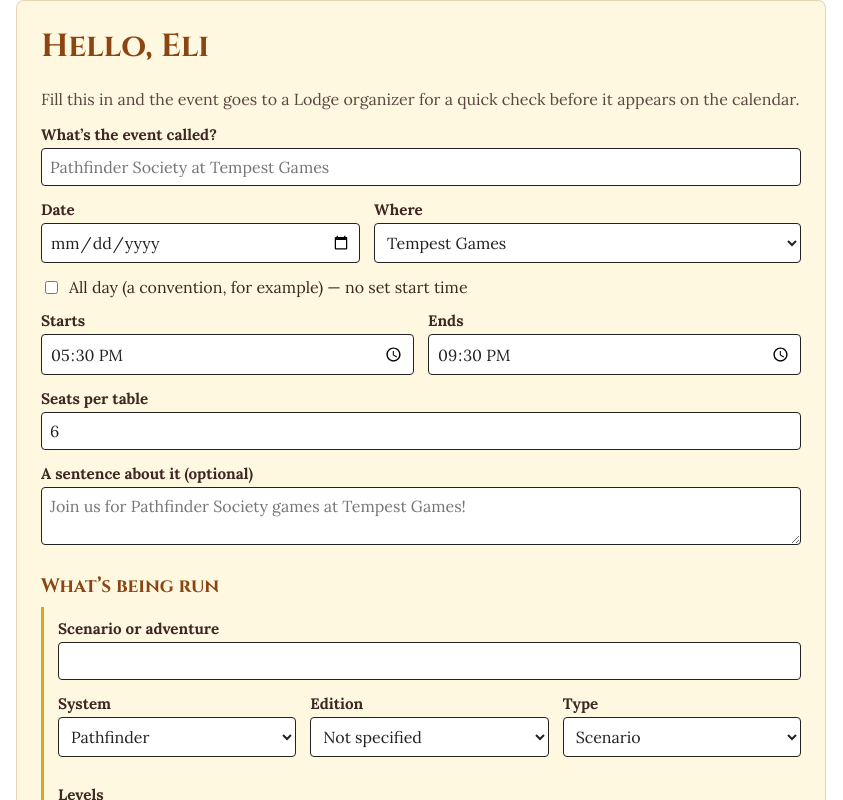
Test: with a link › blames the ad-blocker when the check could not load at all
Type "Games" into the field labelled "What’s the event called?" at (421, 167), box [41,148,801,186]
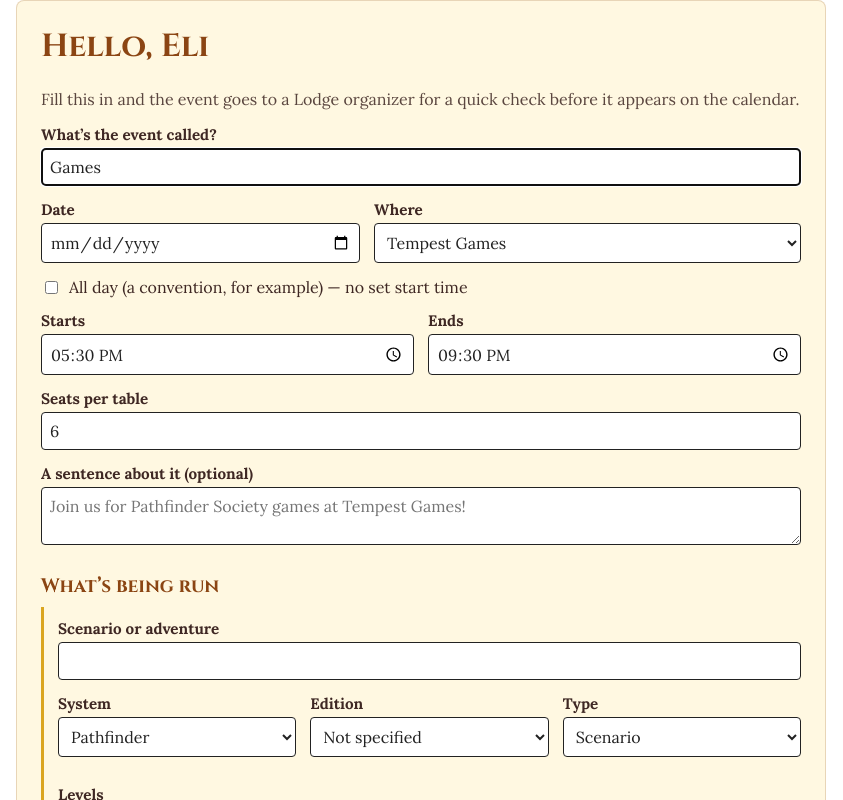
Type "2026-11-05" into the date field labelled "Date" at (200, 243), box [41,223,360,263]
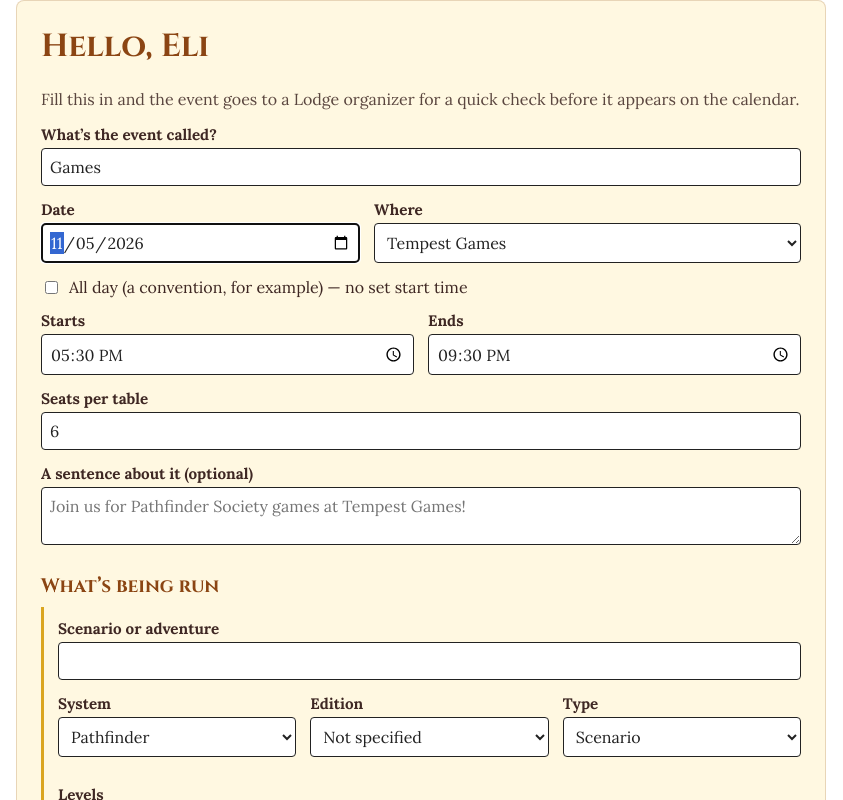
Type "Something" into the field labelled "Scenario or adventure" at (430, 661), box [58,642,801,680]
(page scrolled)
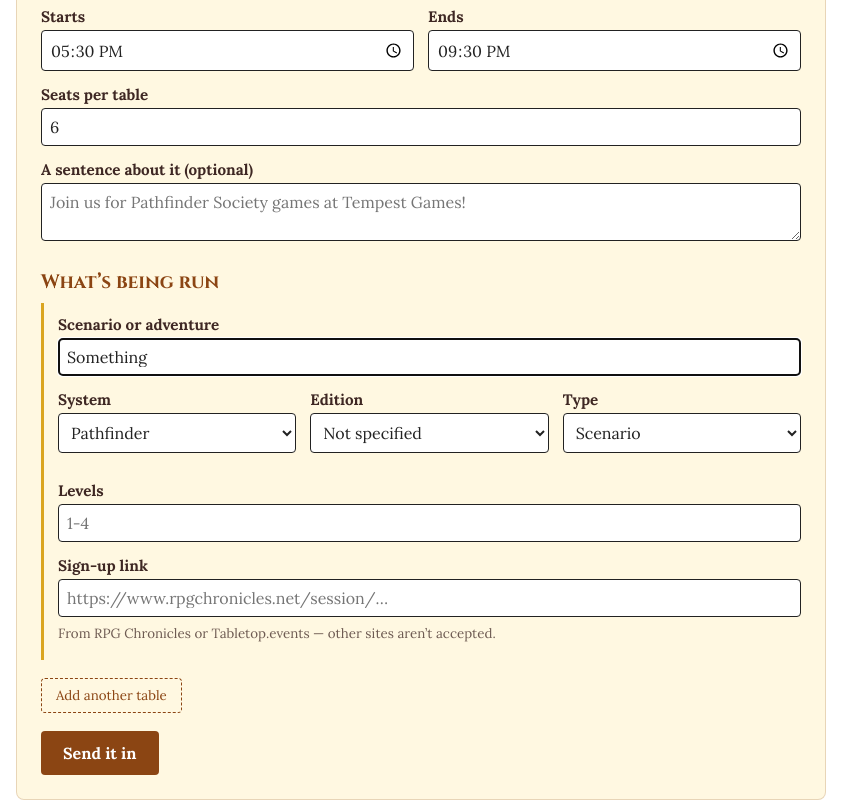
Click the button "Send it in" at (100, 753), box [41,731,159,775]
(page scrolled)
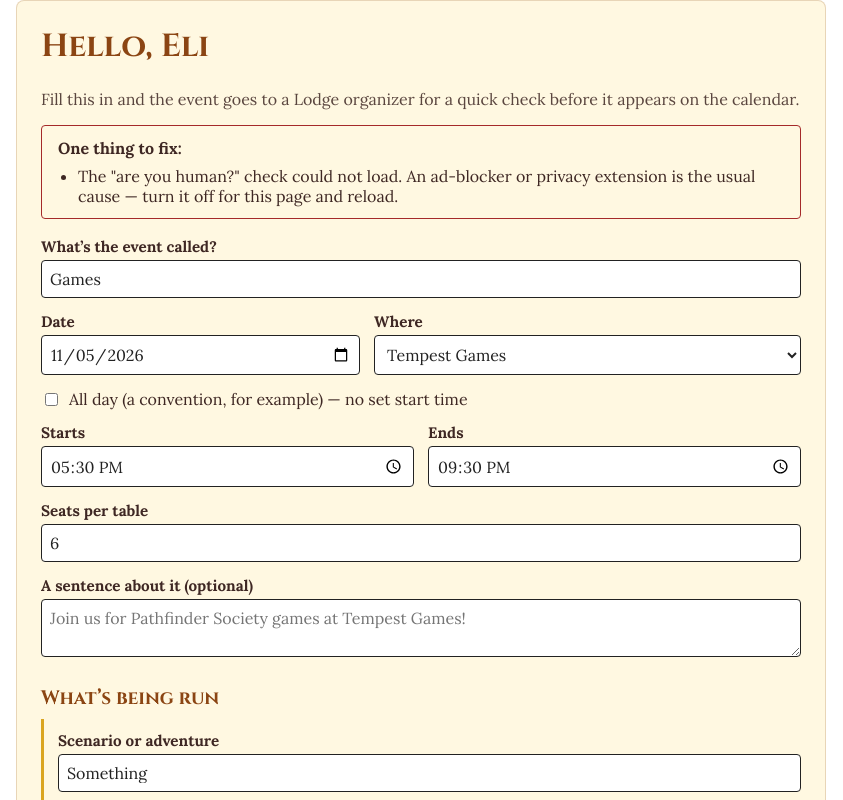
expect the message shows "ad-blocker": met, box [78,166,755,206]
